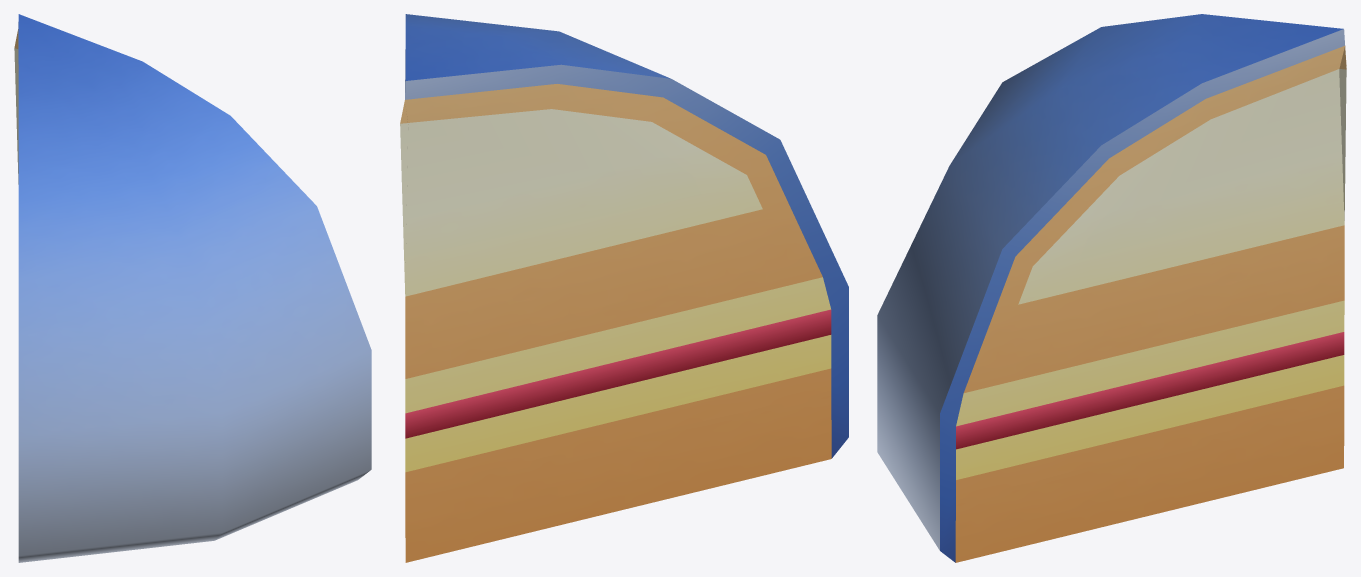
File: m_PrincessCake01_Slice.fbx
3 renders of one model, left to right at view 1: azimuth 30°, elevation 25°; view 2: azimuth 150°, elevation 25°; view 3: azimuth 270°, elevation 25°, orthographic. The views are drawn at different scales.
Parts seen in each view (by area): view 1: m_PrincessCake01_Slice; view 2: m_PrincessCake01_Slice; view 3: m_PrincessCake01_Slice.
Part boxes in pixels (box(x1,y1,x2,y2)): m_PrincessCake01_Slice: box(14, 14, 371, 562); m_PrincessCake01_Slice: box(400, 14, 848, 562); m_PrincessCake01_Slice: box(877, 14, 1346, 562).
Bounding box in the file's own units: 14 × 14.54 × 14.07.
